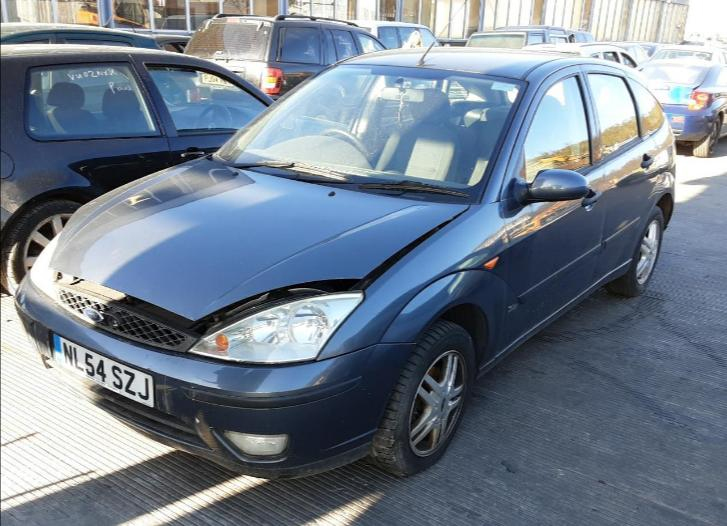Broken part: (52, 204, 472, 341)
Scratch: (154, 375, 203, 417)
